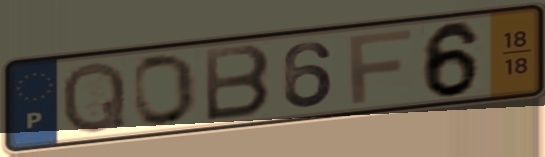6: (418, 18, 487, 100), (281, 40, 337, 110)
B: (201, 42, 274, 124)
F: (345, 26, 415, 106)
O: (130, 51, 200, 129)
Q: (58, 58, 129, 137)
